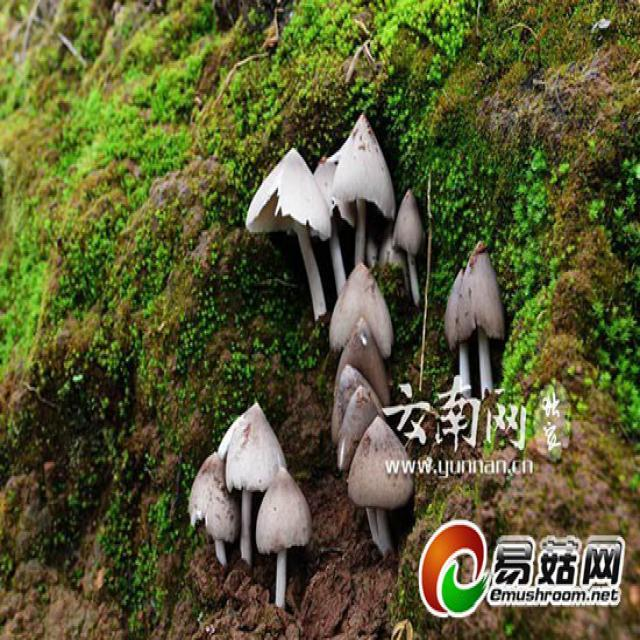Collybia albuminosa: (247, 144, 331, 319), (218, 400, 285, 563), (334, 112, 394, 264), (447, 242, 505, 392), (349, 416, 412, 553), (256, 470, 310, 612), (332, 259, 393, 356), (191, 449, 237, 567), (395, 190, 426, 297)
